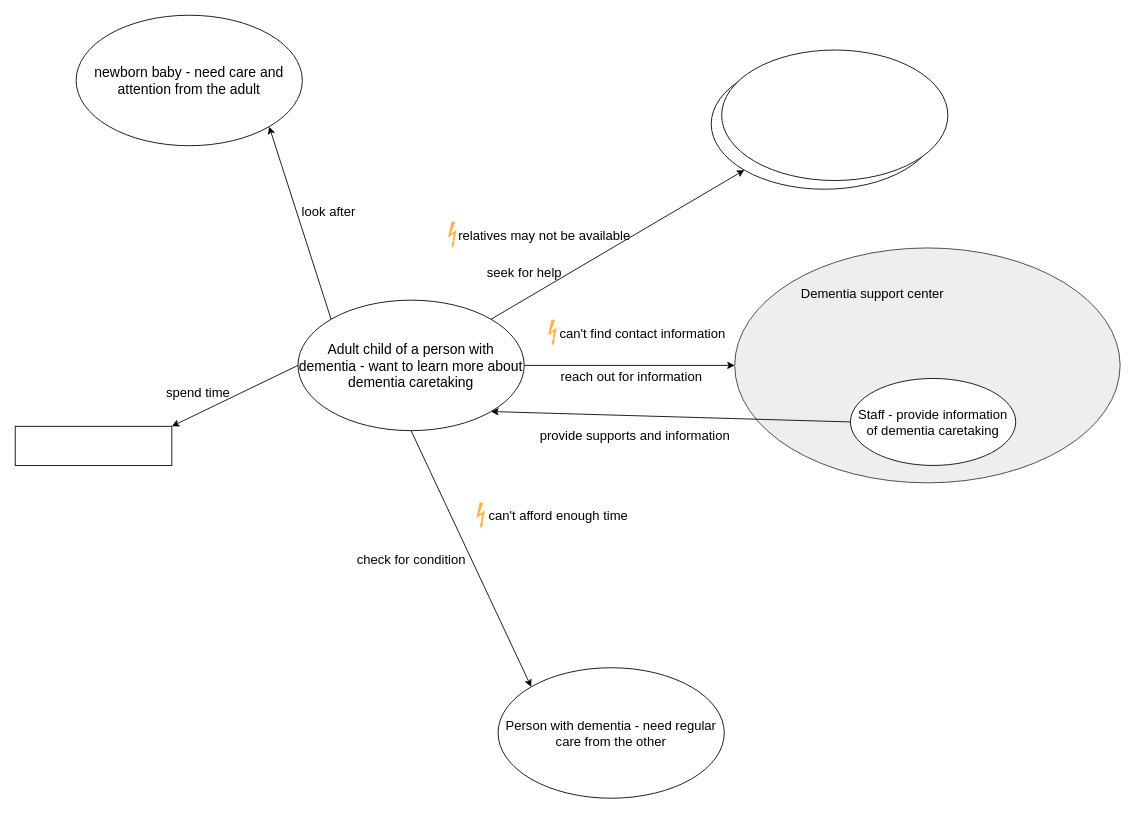
Image size: 1135x813. Some labels were removed from this diagram. The centre of each missing label's shape, as x and y in pixels:
"Job" belongs at point 93,445.
"Relatives - may help to look after person with dementia for a while" belongs at point 834,115.
